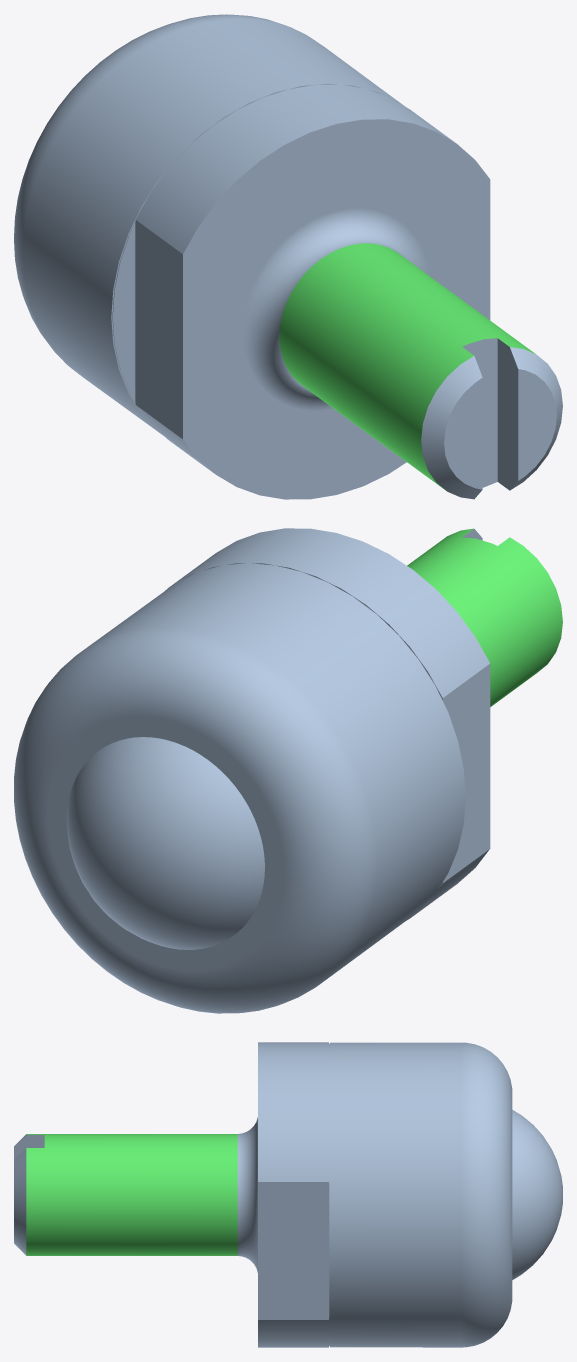
The model's file is roller_BCBE10.dae.
3 renders of one model, top to bottom at view 1: azimuth 30°, elevation 25°; view 2: azimuth 150°, elevation 25°; view 3: azimuth 270°, elevation 25°, orthographic. The views are drawn at different scales.
Parts seen in each view (by area): view 1: _3DGeom_25, _3DGeom_26; view 2: _3DGeom_25, _3DGeom_26; view 3: _3DGeom_25, _3DGeom_26.
Part boxes in pixels (box(x1,y1,x2,y2)): _3DGeom_25: box(14, 14, 562, 499); _3DGeom_26: box(279, 243, 535, 489); _3DGeom_25: box(14, 528, 490, 1013); _3DGeom_26: box(407, 528, 562, 706); _3DGeom_25: box(14, 1042, 562, 1347); _3DGeom_26: box(26, 1134, 237, 1255).
Bounding box in the file's own units: 0.015 × 0.027 × 0.015.
